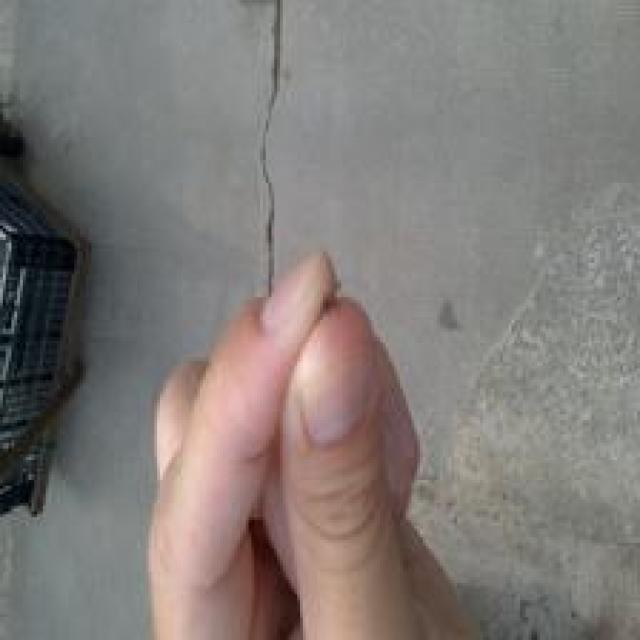Aedes albopictus: (0, 87, 91, 547)
